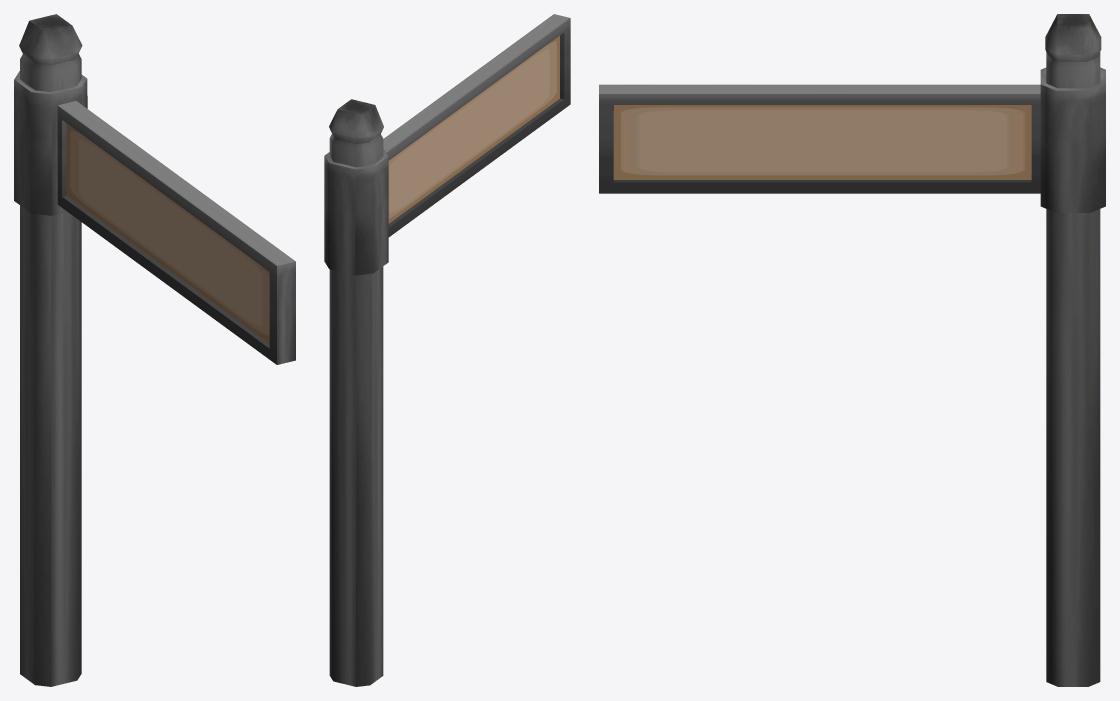
Rendered from Tin Sign Hand.fbx.
The picture shows the model from 3 angles, left to right: view 1: azimuth 30°, elevation 25°; view 2: azimuth 150°, elevation 25°; view 3: azimuth 270°, elevation 25°; orthographic projection. The views are drawn at different scales.
Parts seen in each view (by area): view 1: FencePost (1); view 2: FencePost (1); view 3: FencePost (1).
Part boxes in pixels (x1,y1,x2,y2): FencePost (1): (14,14,295,686); FencePost (1): (324,14,570,686); FencePost (1): (599,14,1105,686).
Size of the model in its own units: 0.1673 by 1.85 by 1.3.
